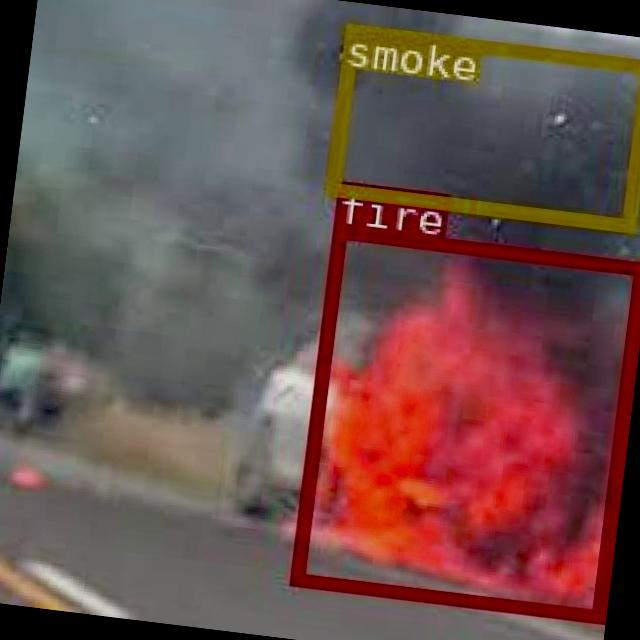fire: (287, 221, 640, 618)
smoke: (323, 20, 640, 228)
